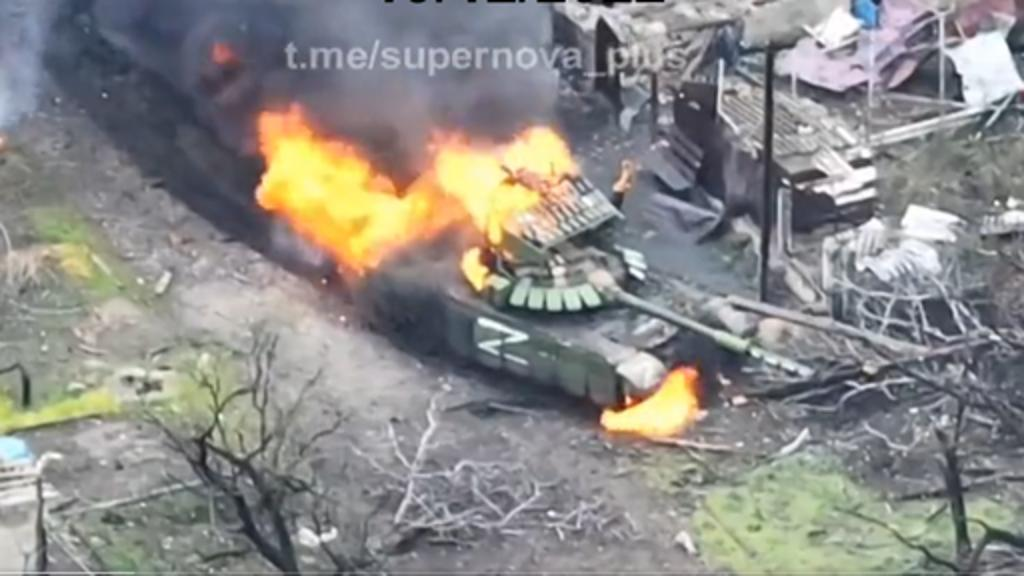TANK: (354, 170, 800, 420)
